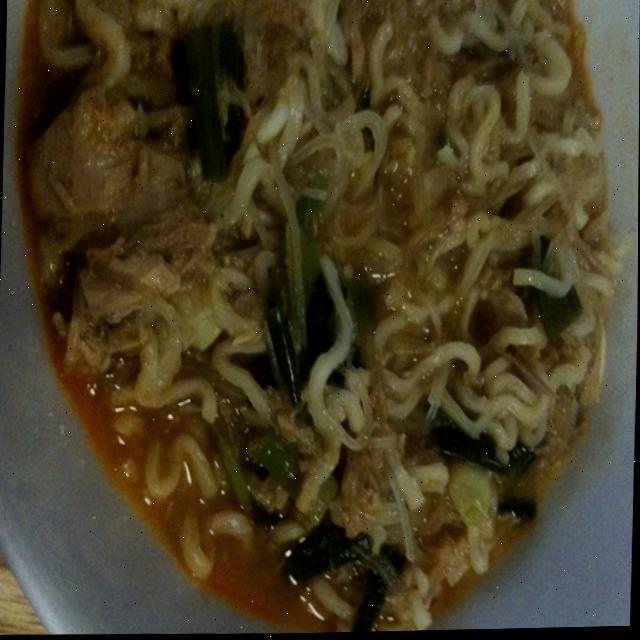面条主食: (7, 0, 638, 636)
